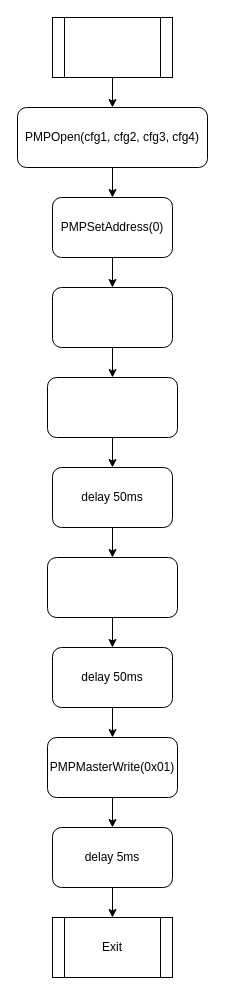
The diagram is 225 pixels wide and 995 high, and some of its shapes have lost their labels. The centre of each missing label's shape, as x and y in pixels:
"delay 20ms" goes at [112,317].
"LCDInit()" goes at [112,47].
"PMPMasterWrite(0x0F)" goes at [112,587].
"PMPMasterWrite(0x38)" goes at [112,407].
